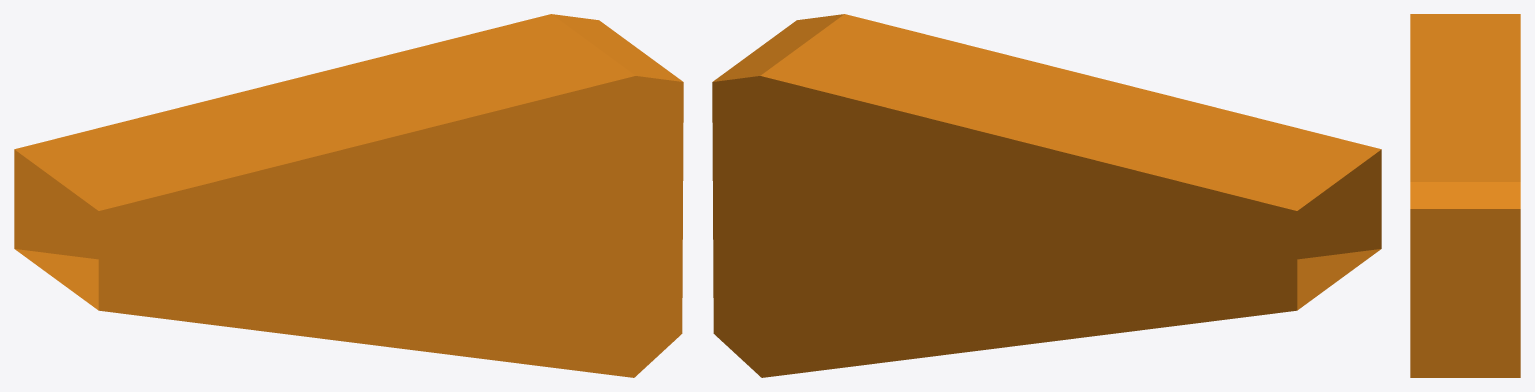
Rendered from stock_02.fbx.
3 views of the same model, side by side, from view 1: azimuth 30°, elevation 25°; view 2: azimuth 150°, elevation 25°; view 3: azimuth 270°, elevation 25° (orthographic). The views are drawn at different scales.
Visible parts, largest first — view 1: butt_1; view 2: butt_1; view 3: butt_1.
Boxes of the visible parts, <box> form: butt_1: <box>14,14,683,377</box>; butt_1: <box>712,14,1381,377</box>; butt_1: <box>1410,14,1520,377</box>.
Size of the model in its own units: 799 by 394 by 200.
